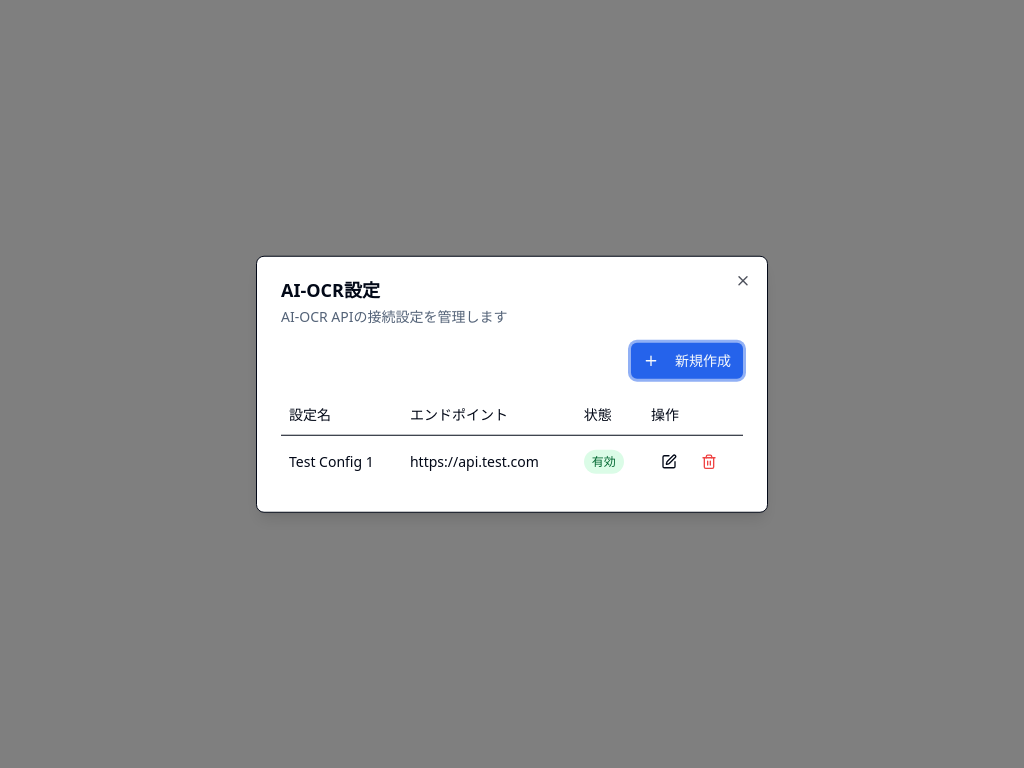
Scenario: SmartReadSettingsModal › opens create form when '新規作成' is clicked
The width and height of the screenshot is (1024, 768).
Step 1. Click the button "新規作成" → {"x": 687, "y": 361}, box [631,343,743,379]
(page scrolled)
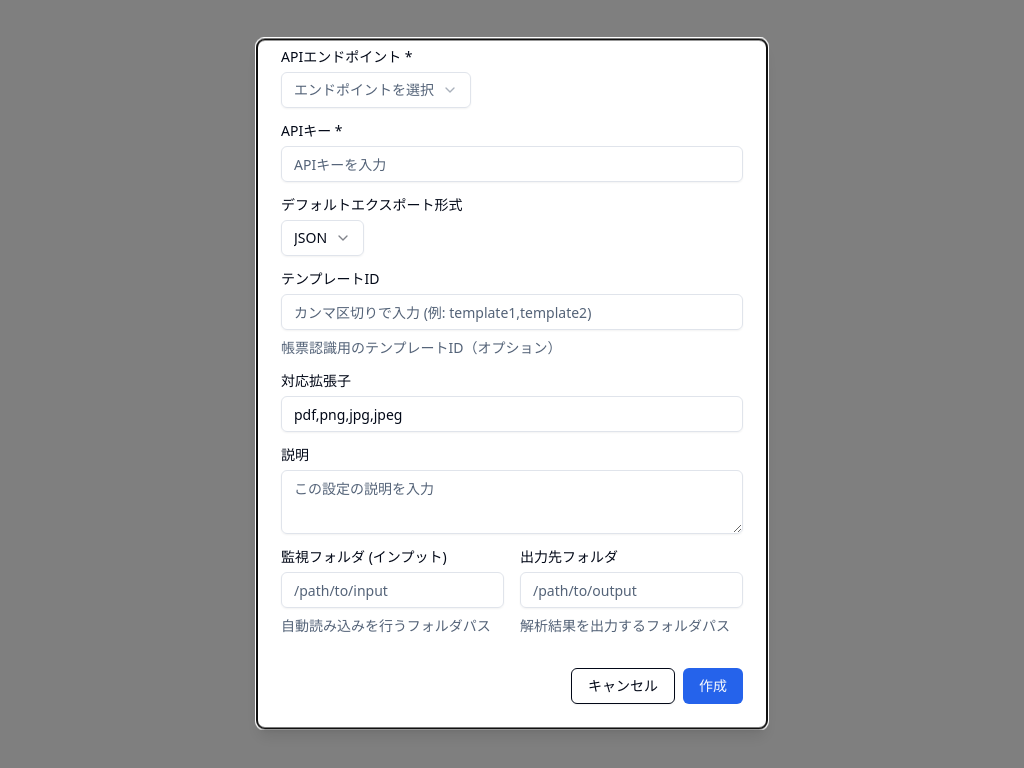
expect the dropdown named "APIエンドポイント" is shown: met, box [281,72,471,108]
expect the field labelled "監視フォルダ (インプット)" is shown: met, box [281,572,504,608]
expect the field labelled "出力先フォルダ" is shown: met, box [520,572,743,608]
